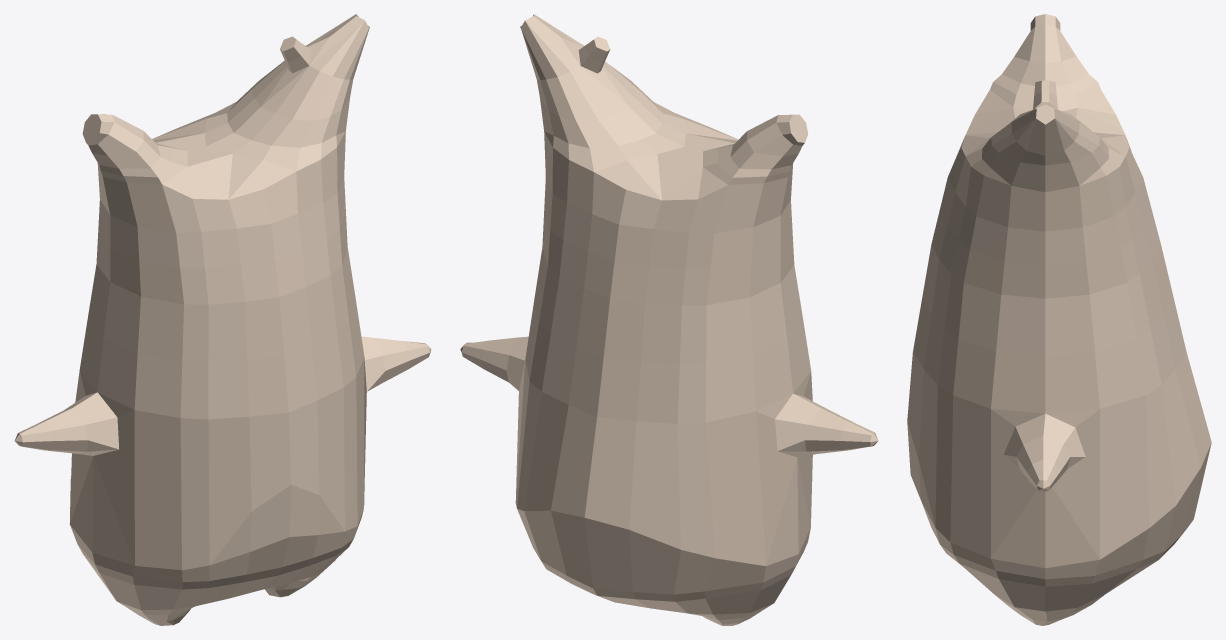
The model's file is frame_0155.obj.
3 views of the same model, side by side, from view 1: azimuth 30°, elevation 25°; view 2: azimuth 150°, elevation 25°; view 3: azimuth 270°, elevation 25° (orthographic).
Parts seen in each view (by area): view 1: korok; view 2: korok; view 3: korok.
Part boxes in pixels (left/top/right/bottom): korok: left=14, top=14, right=431, bottom=625; korok: left=460, top=14, right=878, bottom=625; korok: left=907, top=14, right=1211, bottom=625.
Size of the model in its own units: 1.68 by 2.16 by 1.07.
